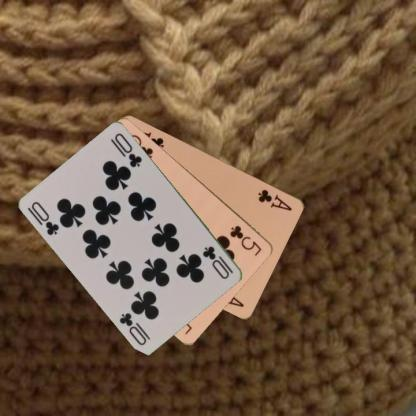10c: (200, 243, 234, 281), (29, 199, 62, 237)
5c: (228, 222, 263, 258)
Ac: (256, 187, 294, 212)
